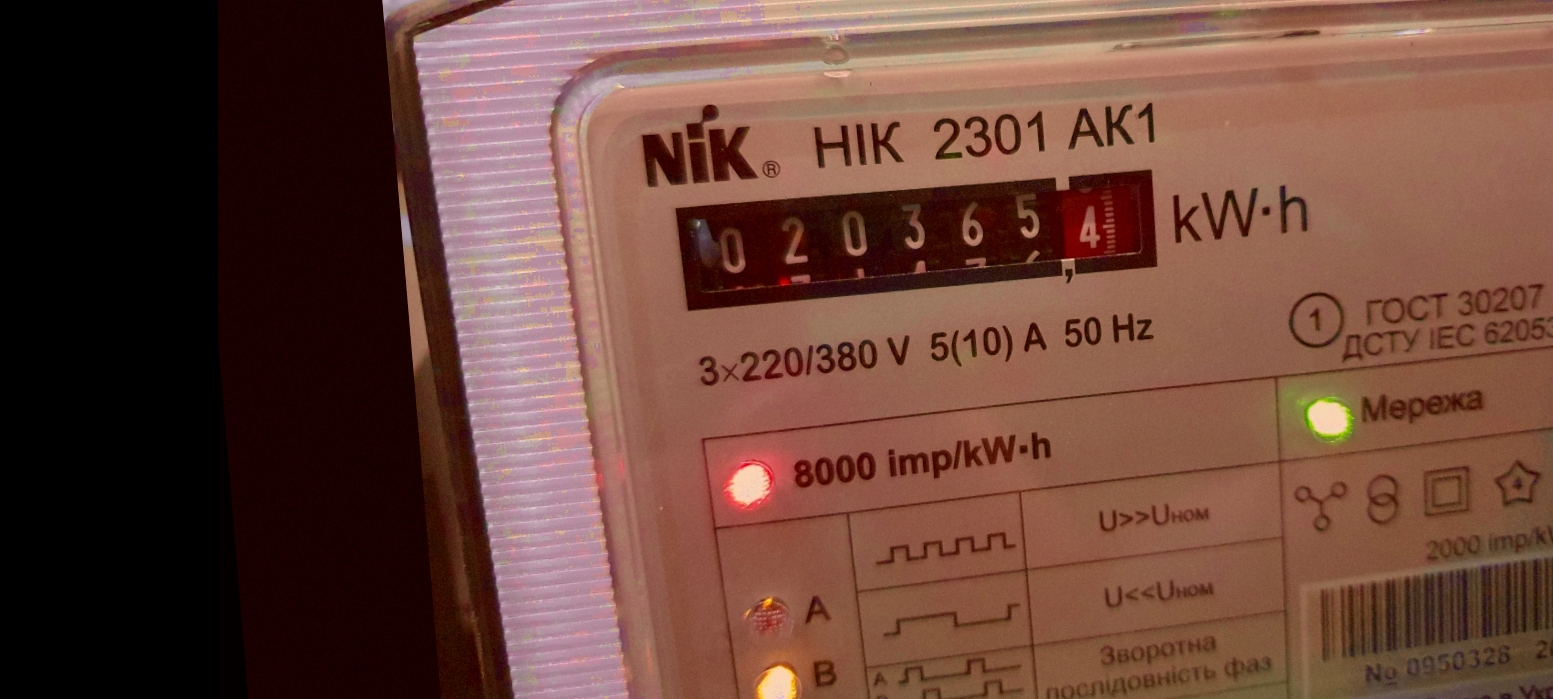0: (715, 221, 752, 278), (839, 207, 873, 259)
2: (778, 213, 812, 266)
3: (898, 201, 931, 252)
4: (1076, 201, 1103, 251)
5: (1015, 191, 1045, 240)
6: (957, 196, 987, 249)
screen: (661, 149, 1179, 328)
